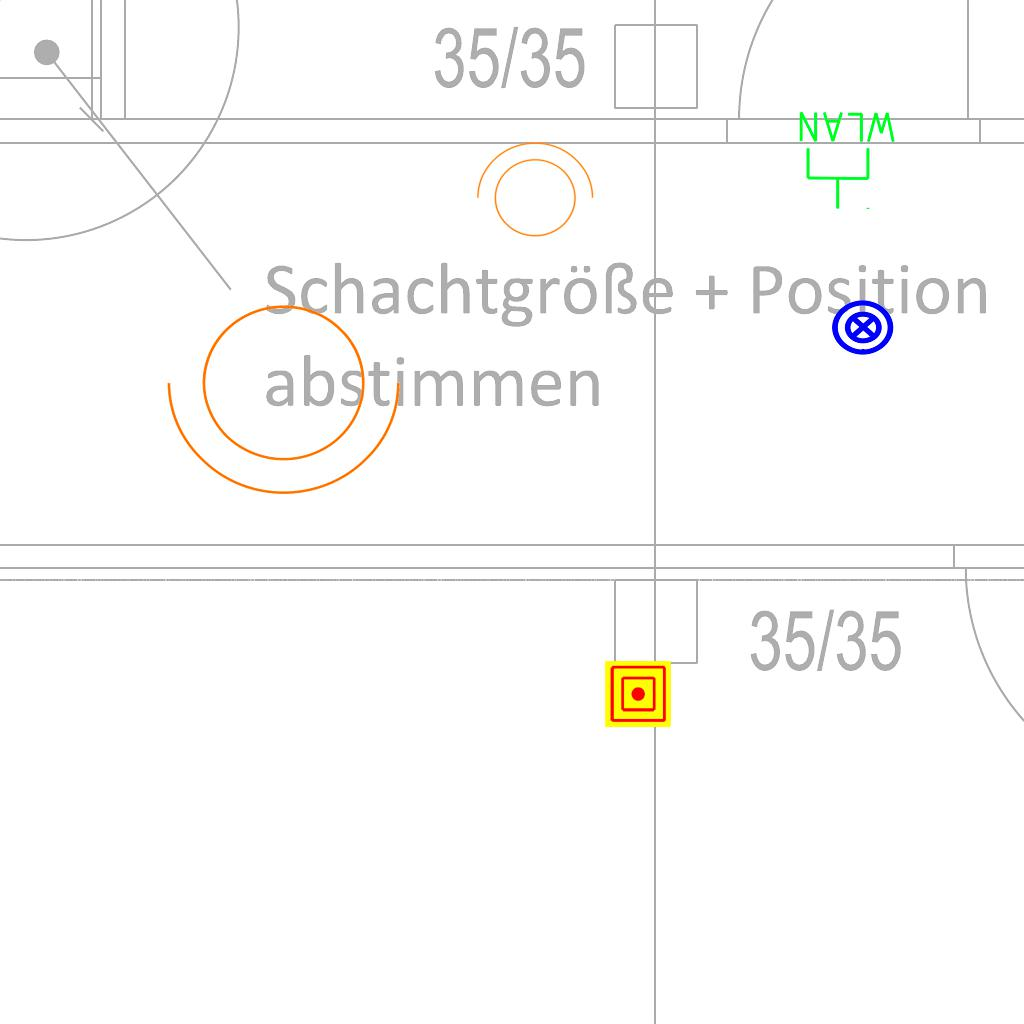NAM-Nichtautomatischer_Melder: (605, 661, 671, 727)
Scheinwerfer_fuer_Alarmbeleuchtung: (158, 280, 422, 505), (466, 137, 598, 249)
Taster_beleuchtet: (830, 294, 896, 360)
WLAN: (795, 108, 900, 212)
